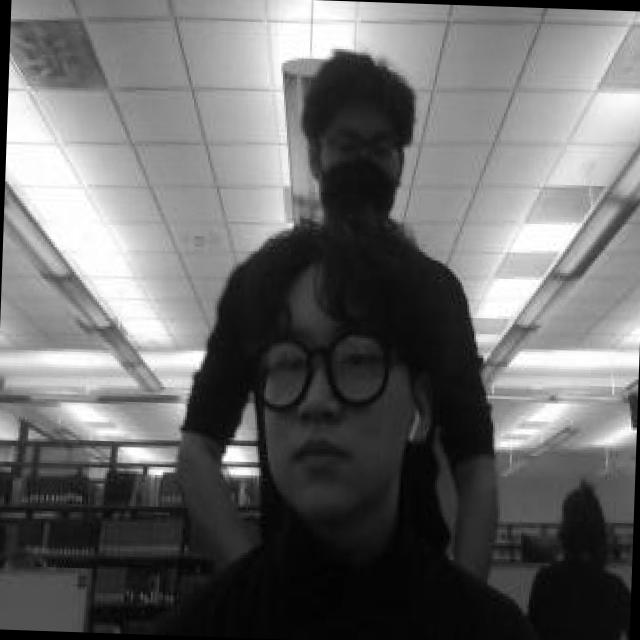Focused: (248, 306, 408, 506)
